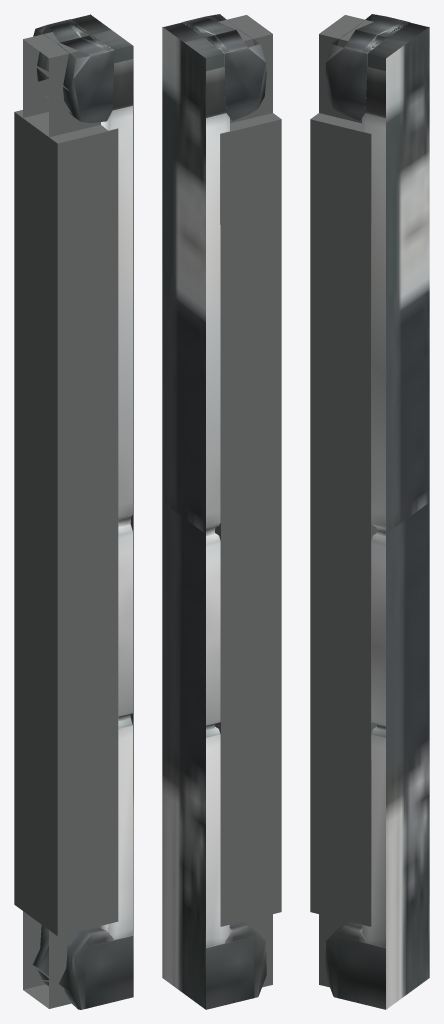
Rendered from corner-post.lod1.glb.
3 renders of one model, left to right at view 1: azimuth 30°, elevation 25°; view 2: azimuth 210°, elevation 25°; view 3: azimuth 330°, elevation 25°, orthographic.
Size of the model in its own units: 0.25 by 3 by 0.25.
1 material, 1 textured.
